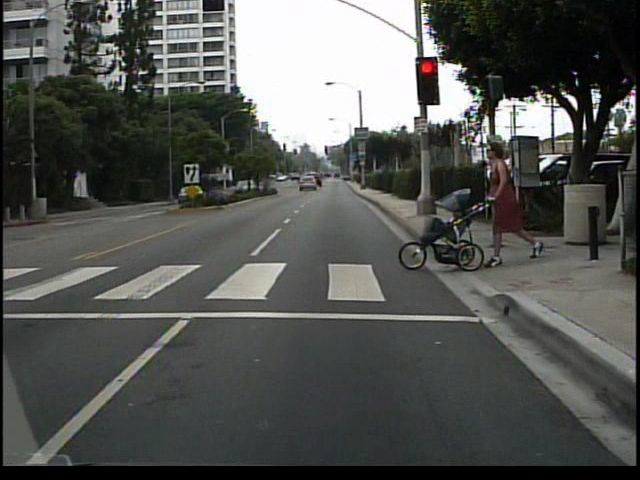person: (481, 140, 544, 270)
